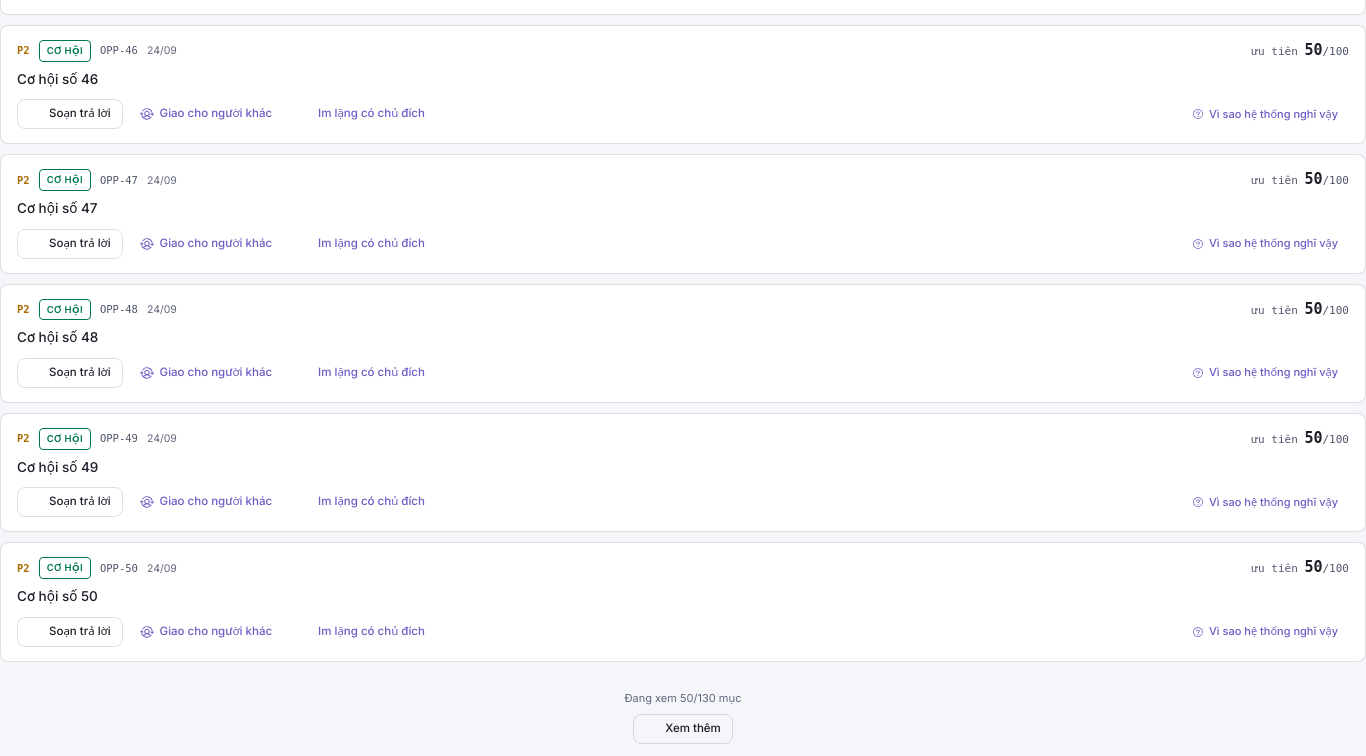
Test: Hộp thư — Xem thêm (F052) › vẽ 50 dòng đầu + "Đang xem 50/130"; mỗi lần bấm "Xem thêm" nối trang kế bằng con trỏ; hết thì mất nút
(page scrolled)
Expected: the message with test id "inbox-xem-them-dem" reads "Đang xem 50/130 mục", [624,691,742,705]
Click the button "Xem thêm".
click(683, 729)  # box [633,714,733,744]
(page scrolled)
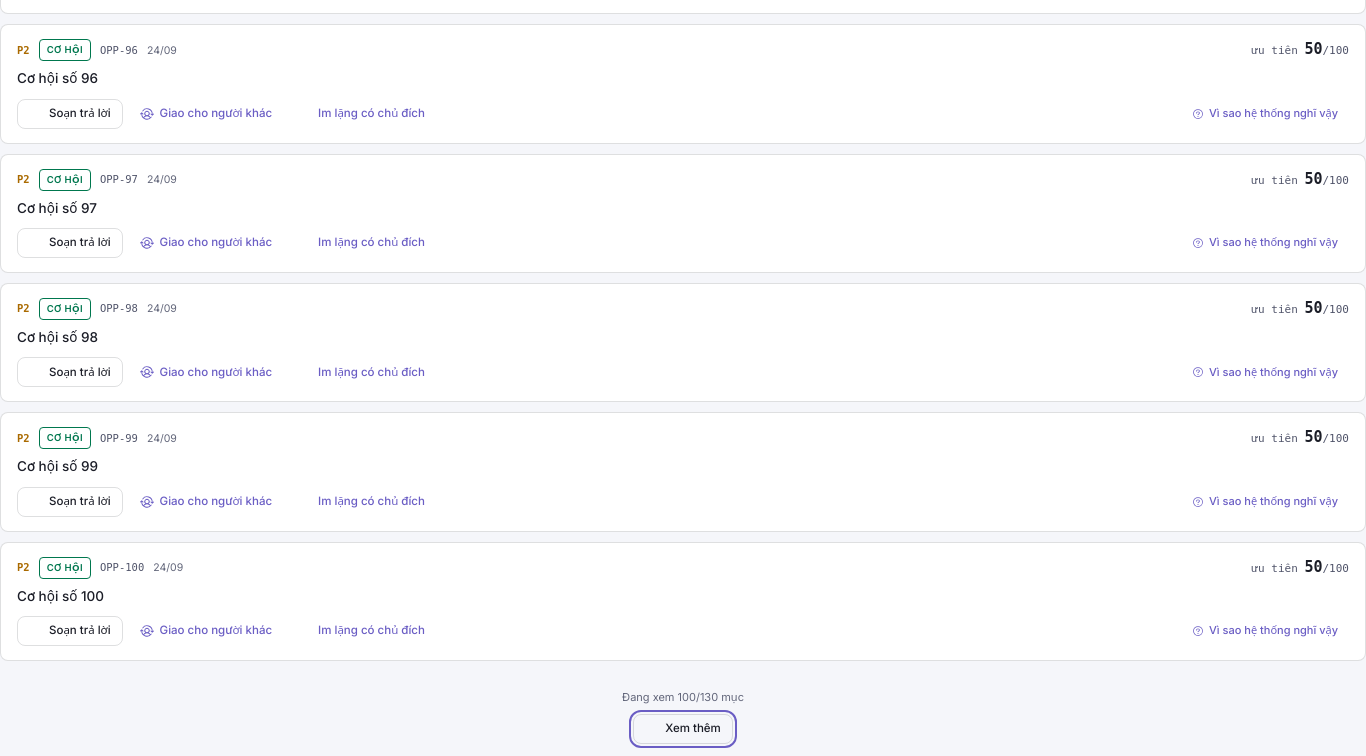
Expected: the message with test id "inbox-xem-them-dem" reads "Đang xem 100/130 mục", [622,690,744,704]
Click the button "Xem thêm".
click(683, 729)  # box [633,714,733,744]
(page scrolled)
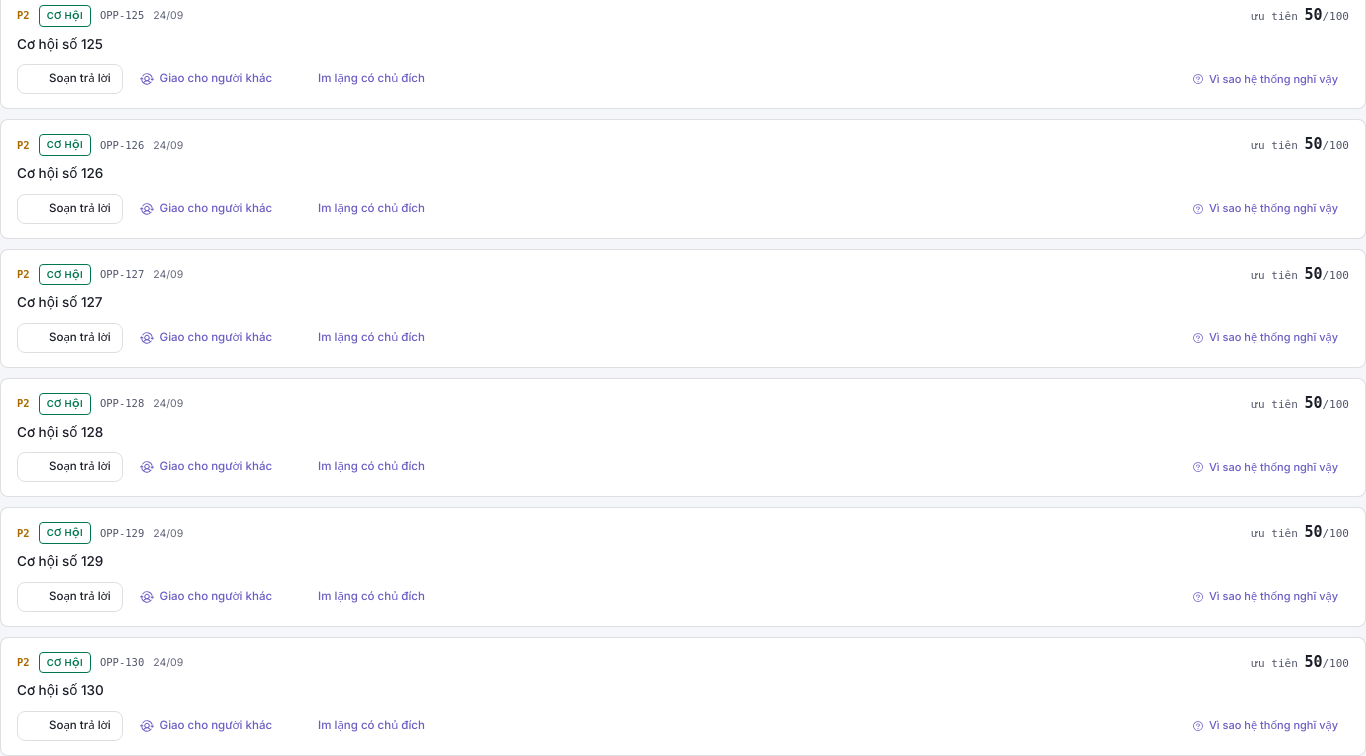
Expected: the heading "Cơ hội số 130" is shown, [17,682,104,698]
Expected: the button "Xem thêm" is gone
Expected: the element with test id "inbox-xem-them" is gone
